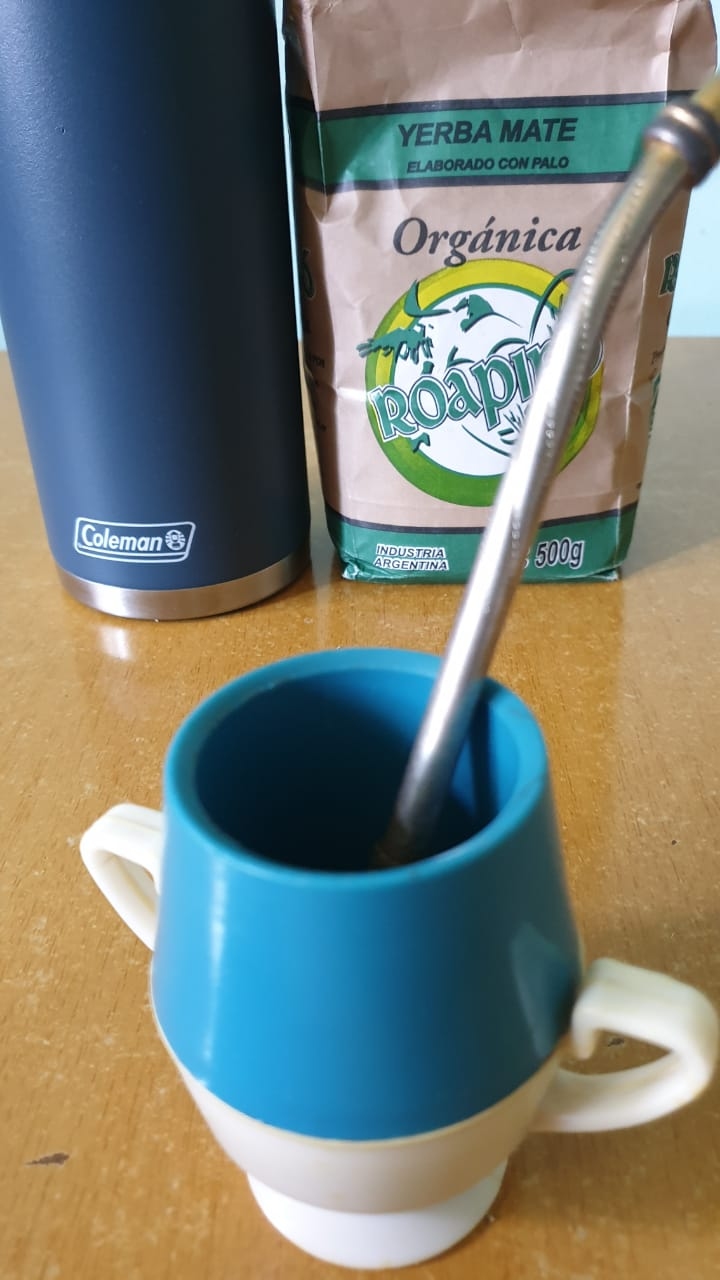mate: (65, 606, 712, 1269)
plastico: (76, 631, 719, 1273)
